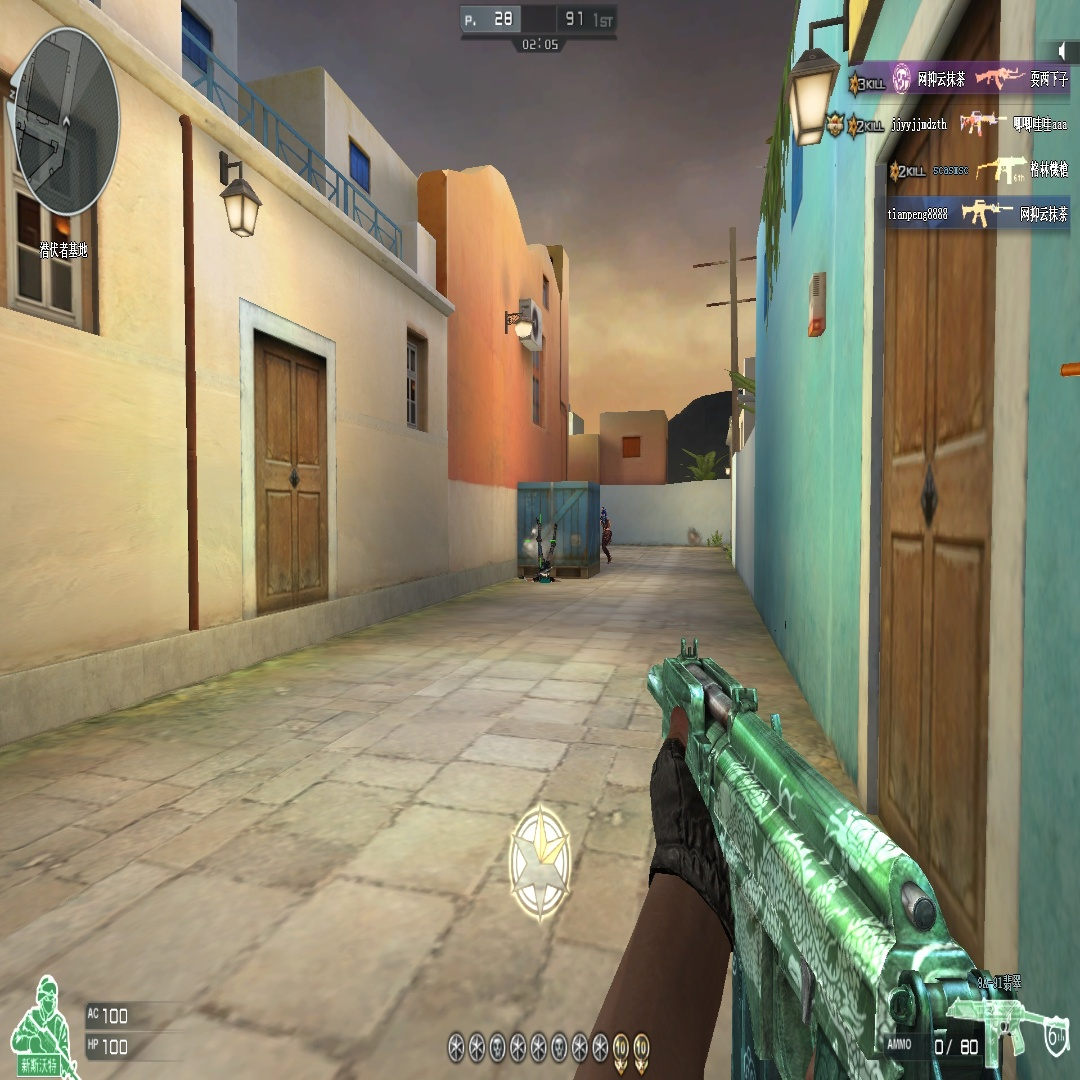p: (601, 508, 612, 563)
